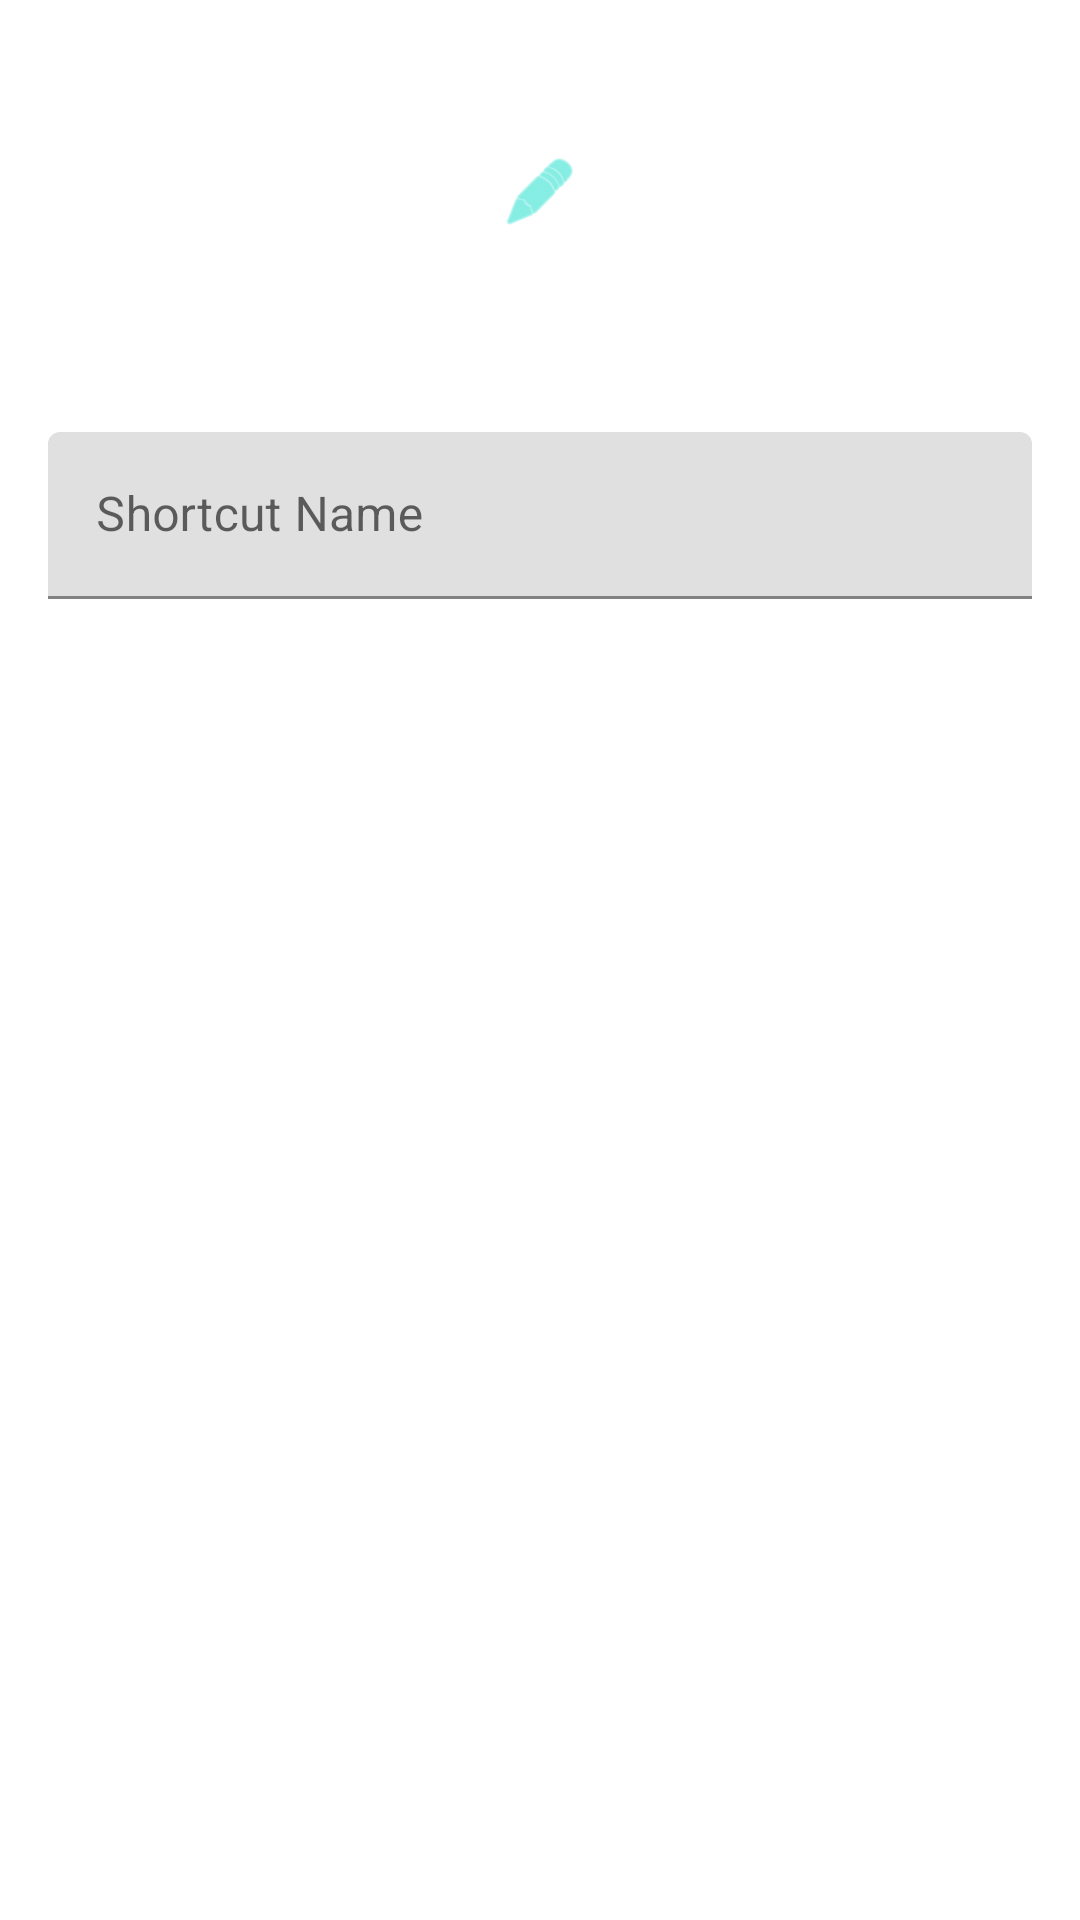

Where icons sit on this 1080px x 1920px app screen, as bbox=(x1, y1, x2, y2):
Edit icon: bbox=(507, 158, 573, 225)
